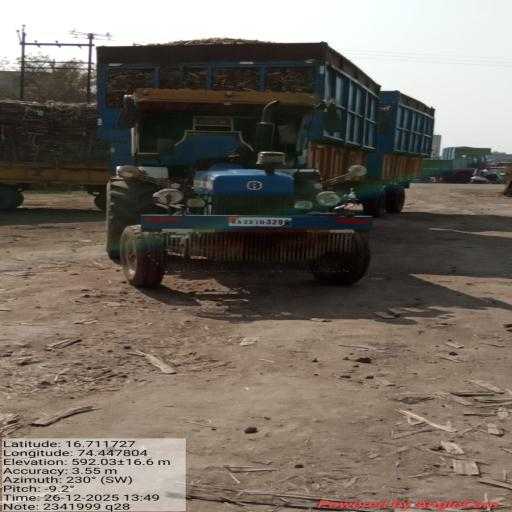number_plate: (222, 208, 317, 233)
